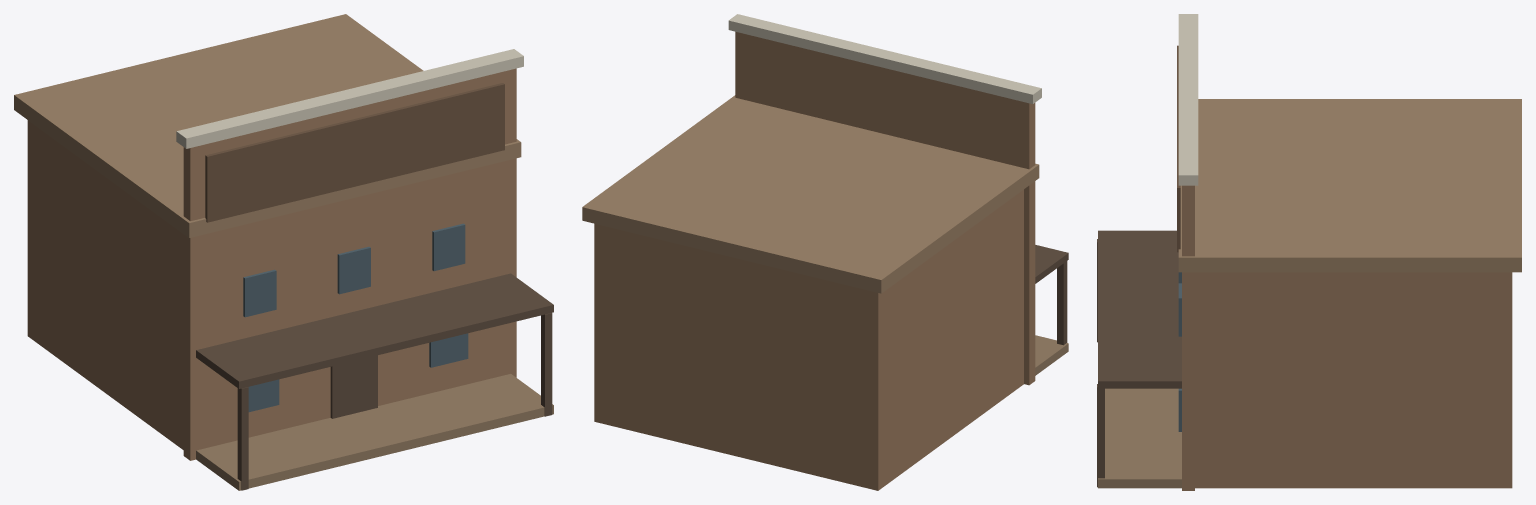
File: w_laden_c.glb
The picture shows the model from 3 angles, left to right: view 1: azimuth 30°, elevation 25°; view 2: azimuth 150°, elevation 25°; view 3: azimuth 270°, elevation 25°; orthographic projection. The views are drawn at different scales.
Visible parts, largest first — view 1: koerper; view 2: koerper; view 3: koerper.
Boxes of the visible parts, box(x1,y1,x2,y2) form: koerper: box(14, 14, 553, 490); koerper: box(582, 14, 1068, 490); koerper: box(1097, 14, 1521, 490).
Bounding box in the file's own units: 11.8 × 10.85 × 13.12.
